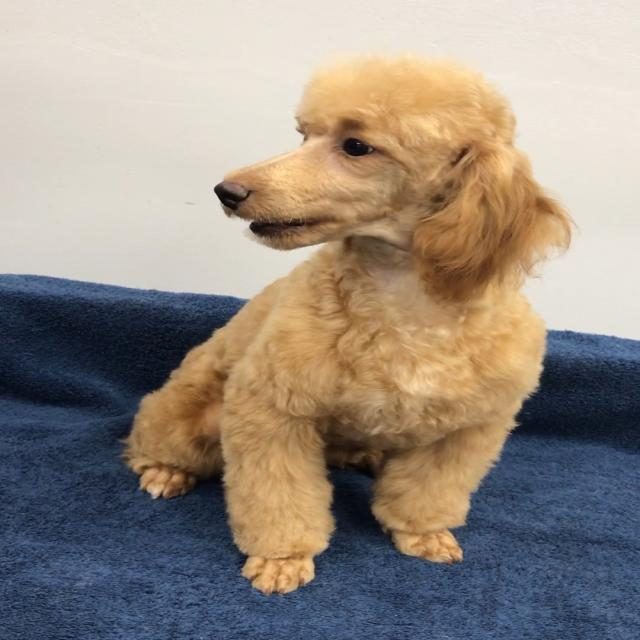Poodle_dog: (207, 41, 578, 317)
